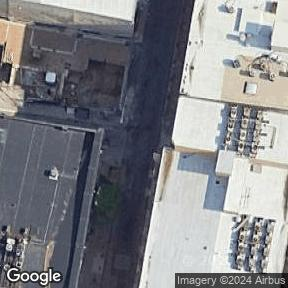vegetation: (94, 184, 118, 223)
